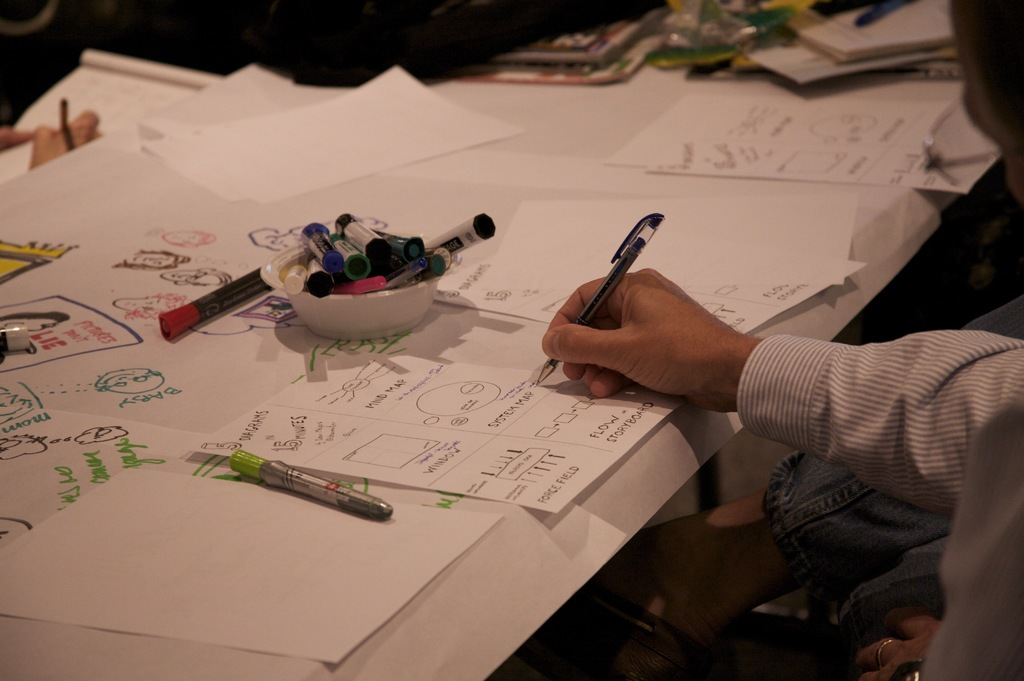Pen: (536, 213, 666, 388), (229, 445, 389, 520), (51, 90, 72, 146)
